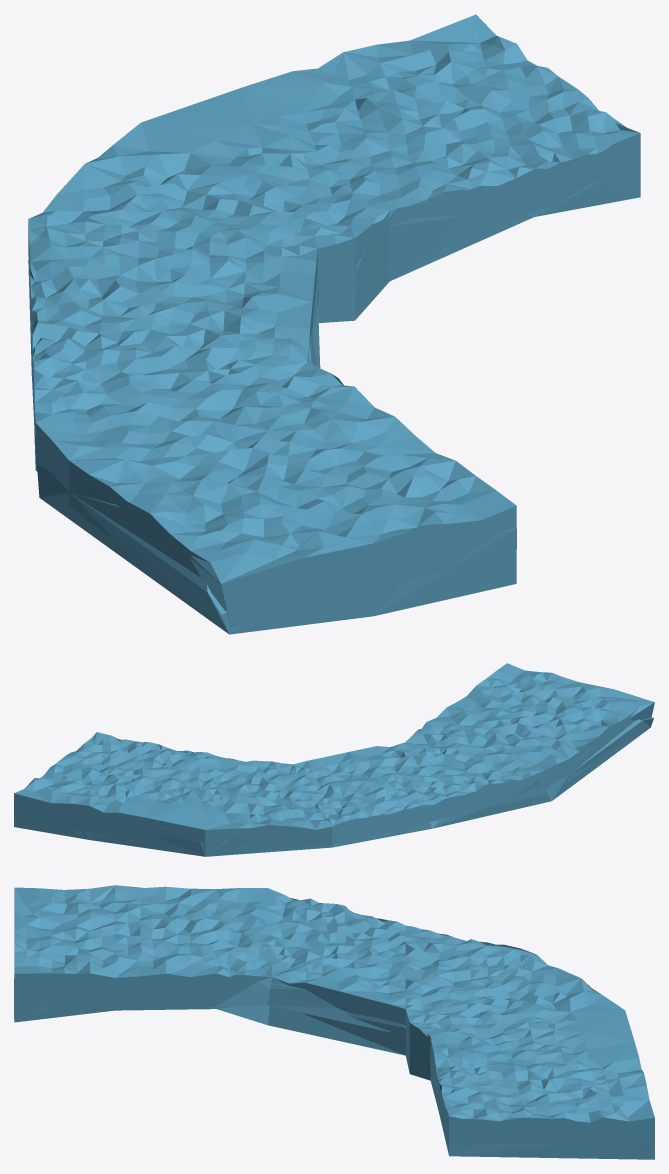
File: lowerleft_water.fbx
3 views of the same model, one above another, from view 1: azimuth 30°, elevation 25°; view 2: azimuth 150°, elevation 25°; view 3: azimuth 270°, elevation 25° (orthographic). The views are drawn at different scales.
Visible parts, largest first — view 1: water1, water2; view 2: water1, water2; view 3: water1, water2.
Boxes of the visible parts, bbox=[...] form: water1: bbox=[28, 14, 640, 628]; water2: bbox=[28, 148, 640, 634]; water1: bbox=[14, 663, 654, 854]; water2: bbox=[14, 717, 653, 856]; water1: bbox=[14, 885, 654, 1146]; water2: bbox=[14, 978, 654, 1159].
Size of the model in its own units: 13797 by 1526 by 15969.
